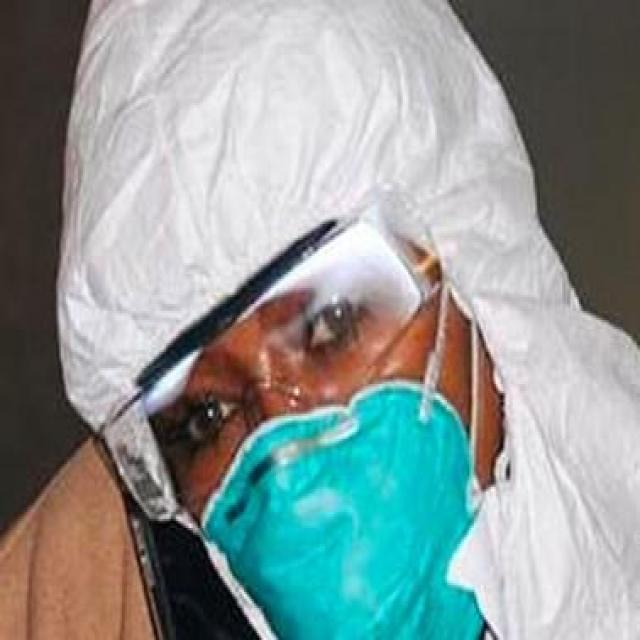Mask: (197, 377, 488, 640)
